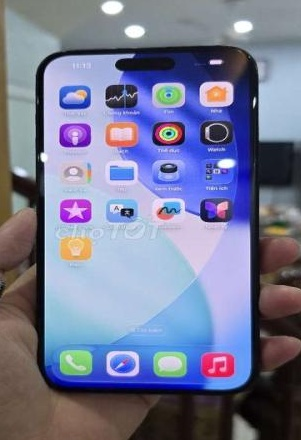scratch: (249, 93, 261, 111)
